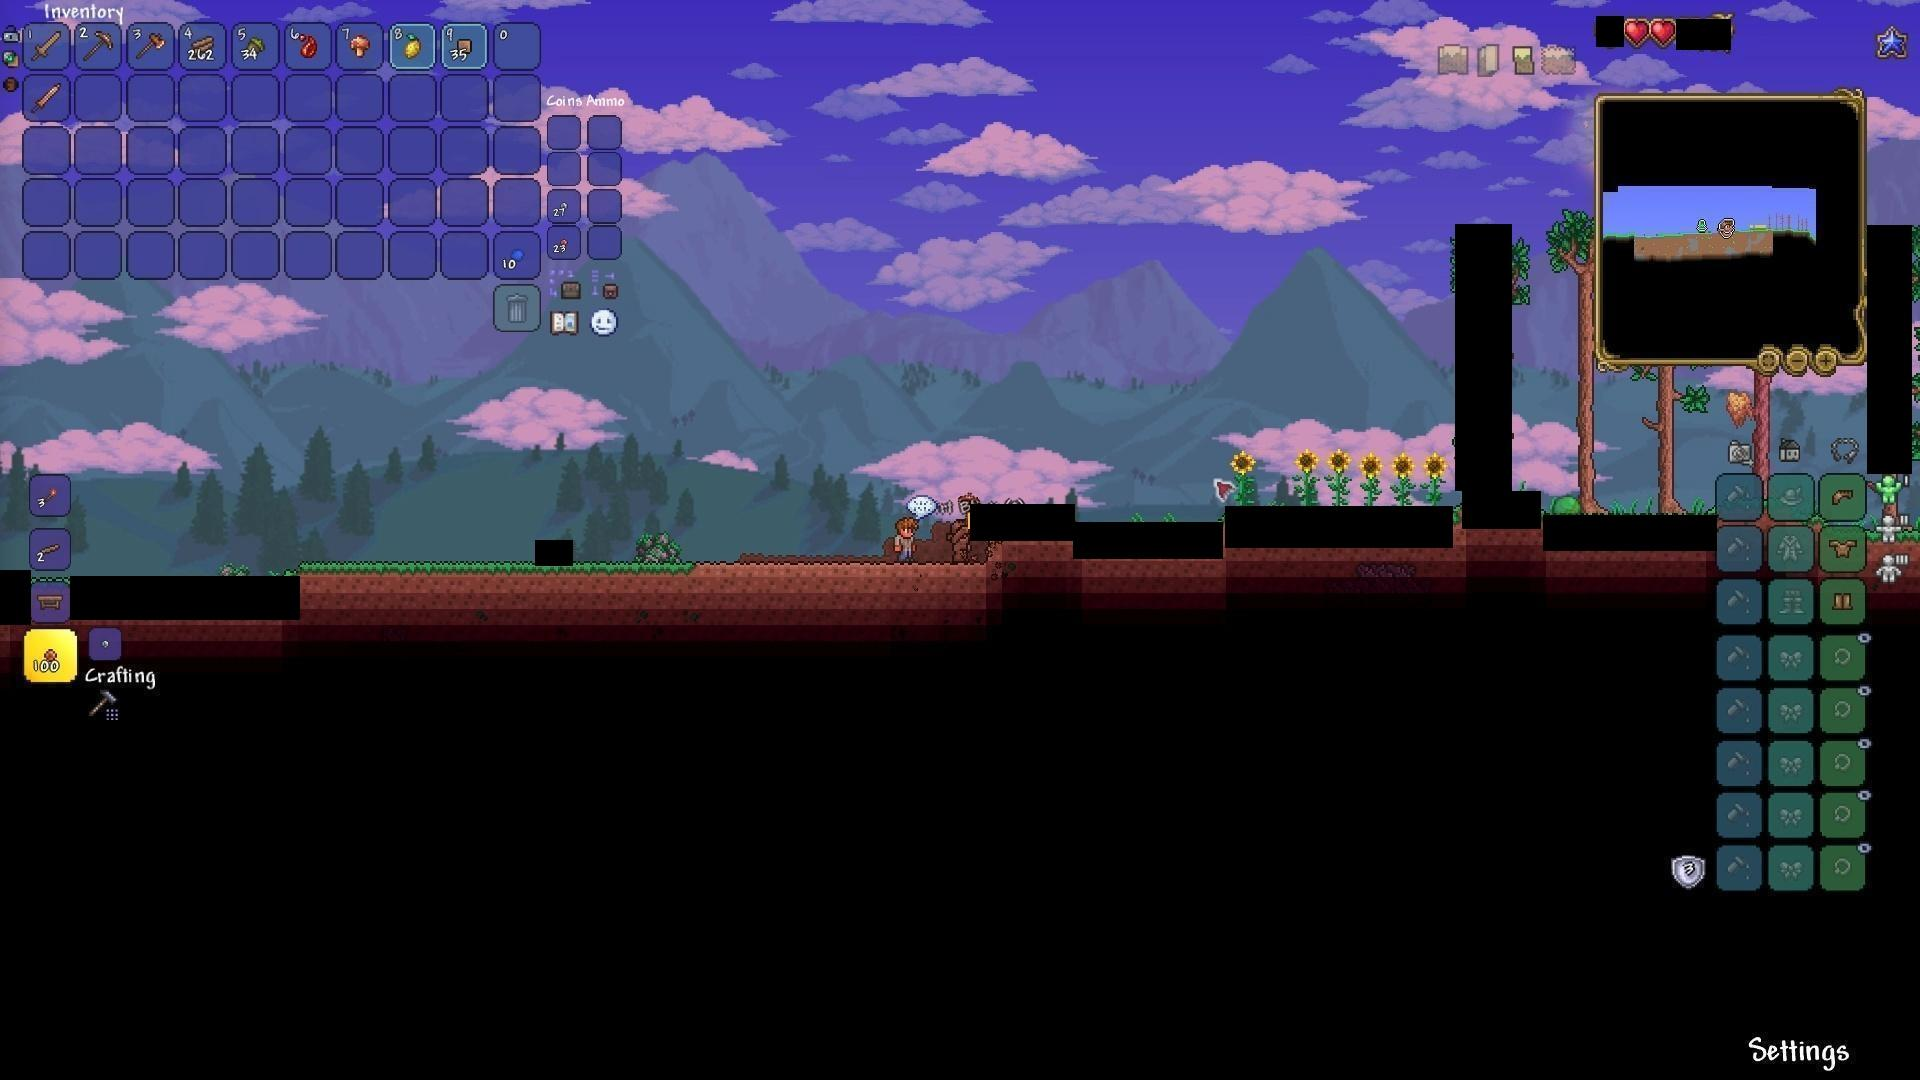breastplate: (1830, 538, 1859, 559)
dirt: (307, 564, 698, 617)
heart: (1625, 18, 1652, 49), (1648, 18, 1676, 49)
helmet: (1828, 483, 1858, 510)
legs: (1830, 588, 1855, 616)
slime: (1549, 495, 1582, 518)
tree: (1547, 206, 1605, 495), (1640, 367, 1691, 513)
wood: (186, 34, 220, 61)
workbench: (32, 589, 67, 615)
